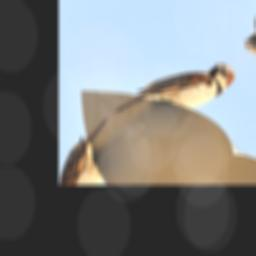Swallow: (111, 40, 242, 148)
